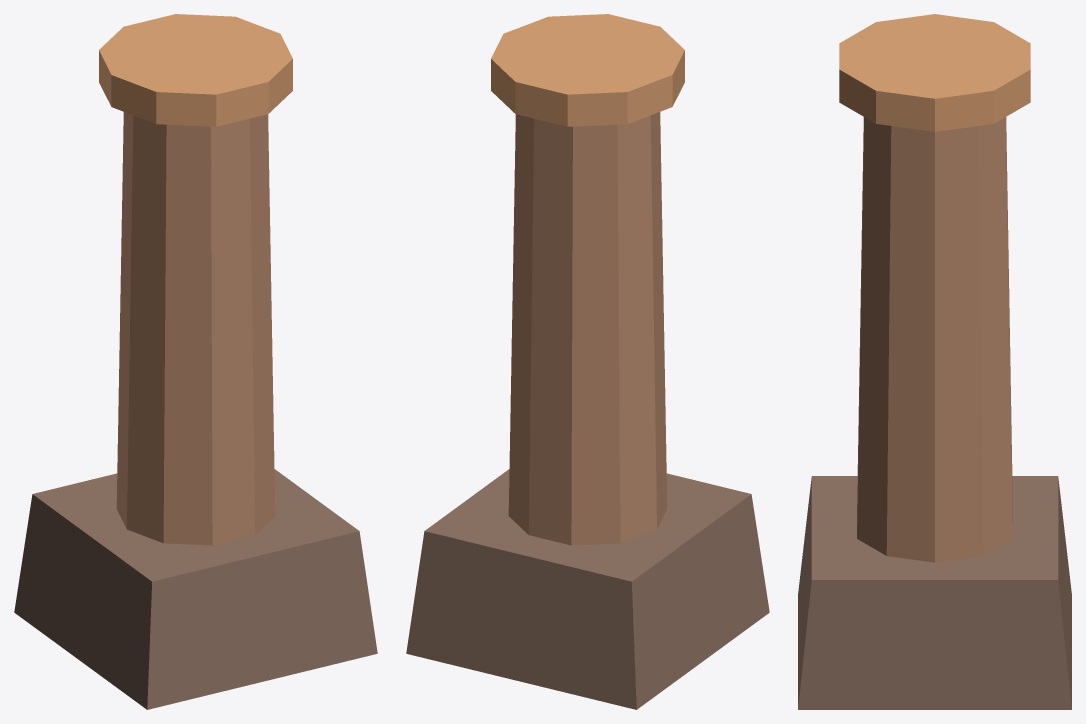
File: vent.glb
3 views of the same model, side by side, from view 1: azimuth 30°, elevation 25°; view 2: azimuth 150°, elevation 25°; view 3: azimuth 270°, elevation 25° (orthographic). The views are drawn at different scales.
Bounding box in the file's own units: 6 × 14.4 × 6.
